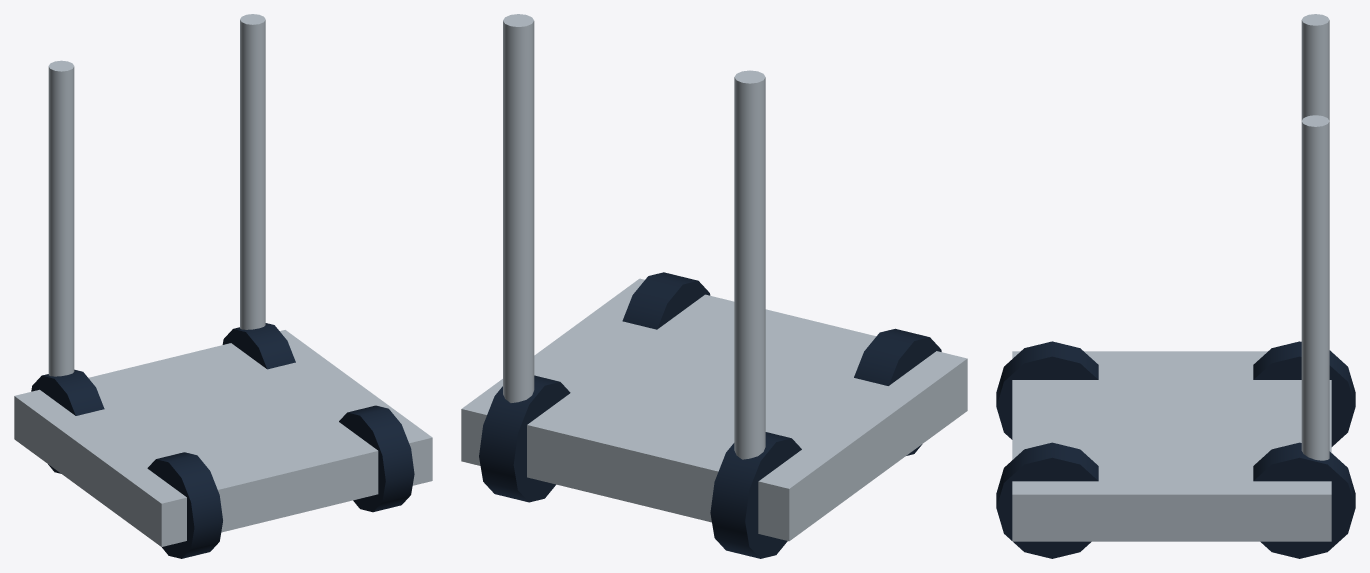
Rendered from sled.glb.
3 views of the same model, side by side, from view 1: azimuth 30°, elevation 25°; view 2: azimuth 150°, elevation 25°; view 3: azimuth 270°, elevation 25° (orthographic). The views are drawn at different scales.
Visible parts, largest first — view 1: deck, handle (×2), wheel (×4); view 2: deck, handle (×2), wheel (×4); view 3: deck, wheel (×4), handle (×2).
Boxes of the visible parts, bbox=[...] form: deck: bbox=[14, 330, 432, 546]; handle (×2): bbox=[48, 14, 265, 376]; wheel (×4): bbox=[31, 323, 414, 558]; deck: bbox=[461, 278, 967, 541]; handle (×2): bbox=[503, 14, 765, 459]; wheel (×4): bbox=[479, 272, 941, 558]; deck: bbox=[1012, 351, 1331, 541]; wheel (×4): bbox=[996, 341, 1355, 558]; handle (×2): bbox=[1301, 14, 1329, 460].
Bounding box in the file's own units: 0.85 × 1.19 × 0.9.
